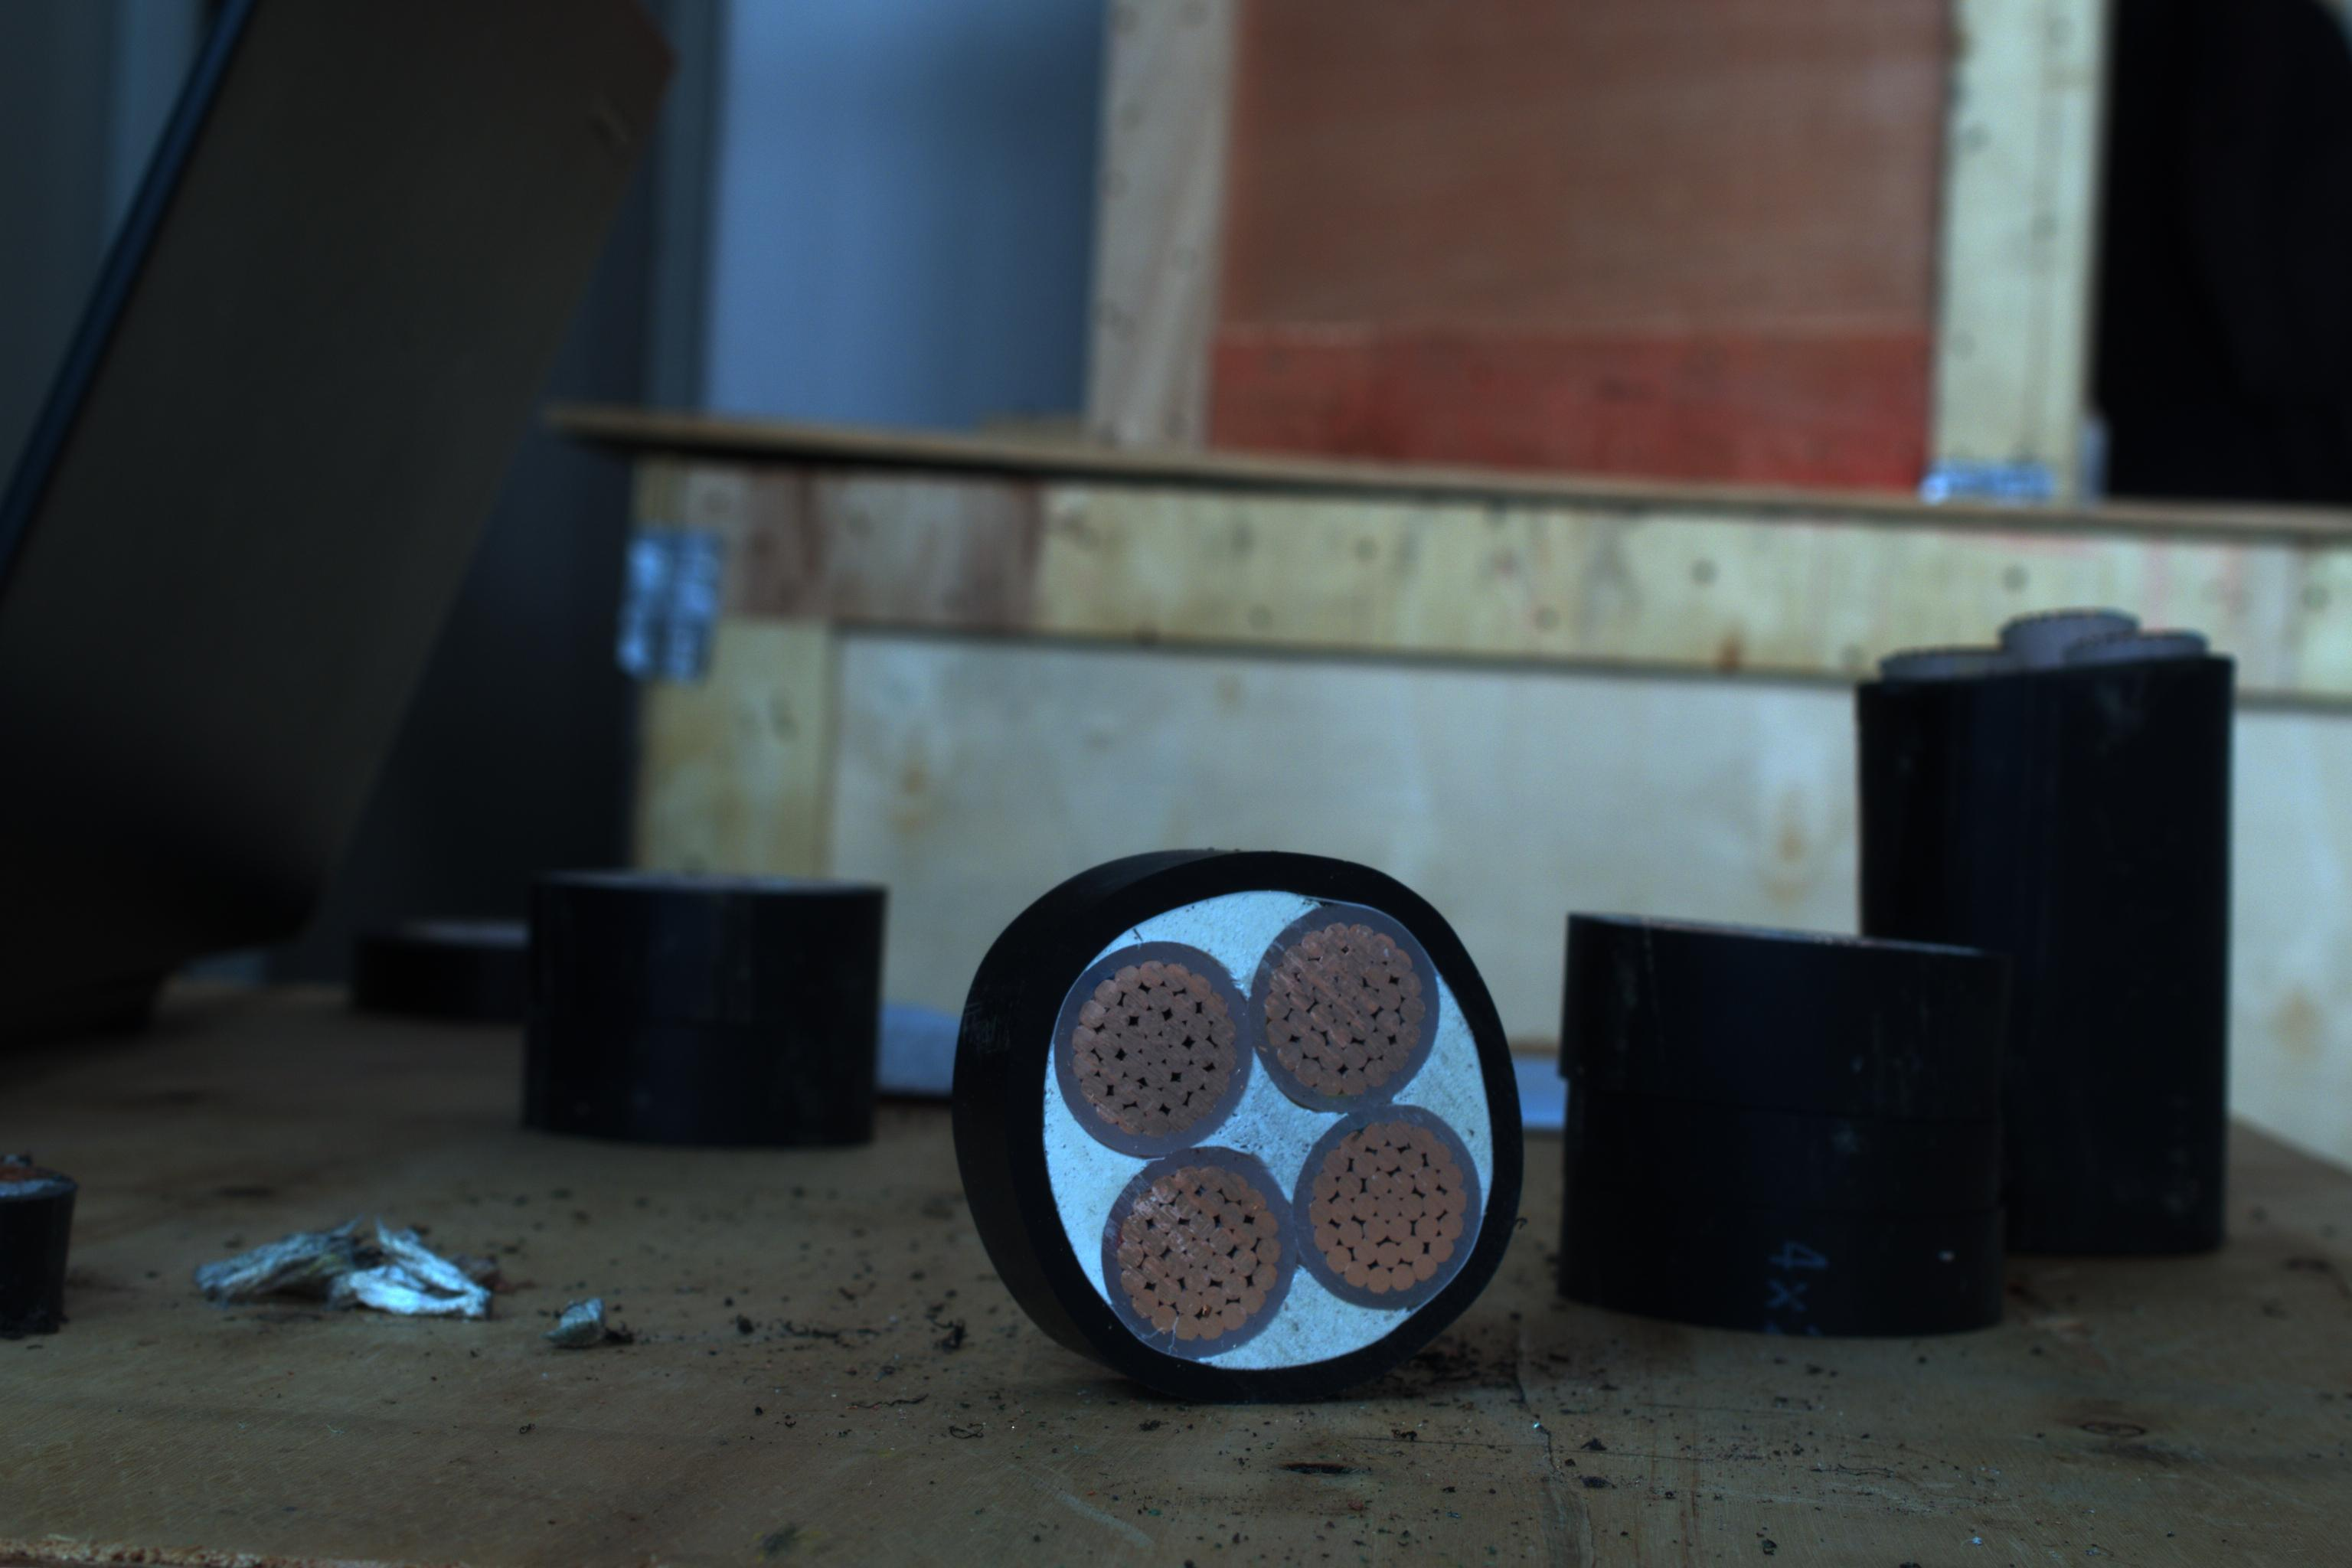YJV_0.6_1kV_4x240: (987, 857, 1535, 1372)
